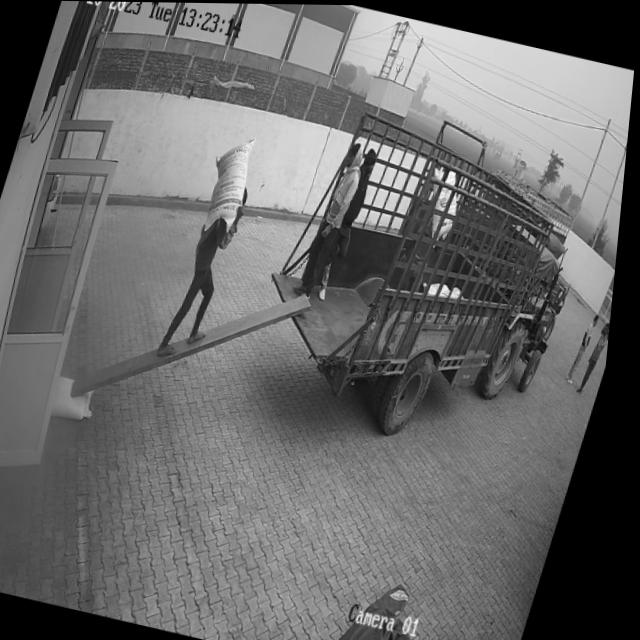sack: (200, 133, 263, 235), (55, 375, 107, 422)
